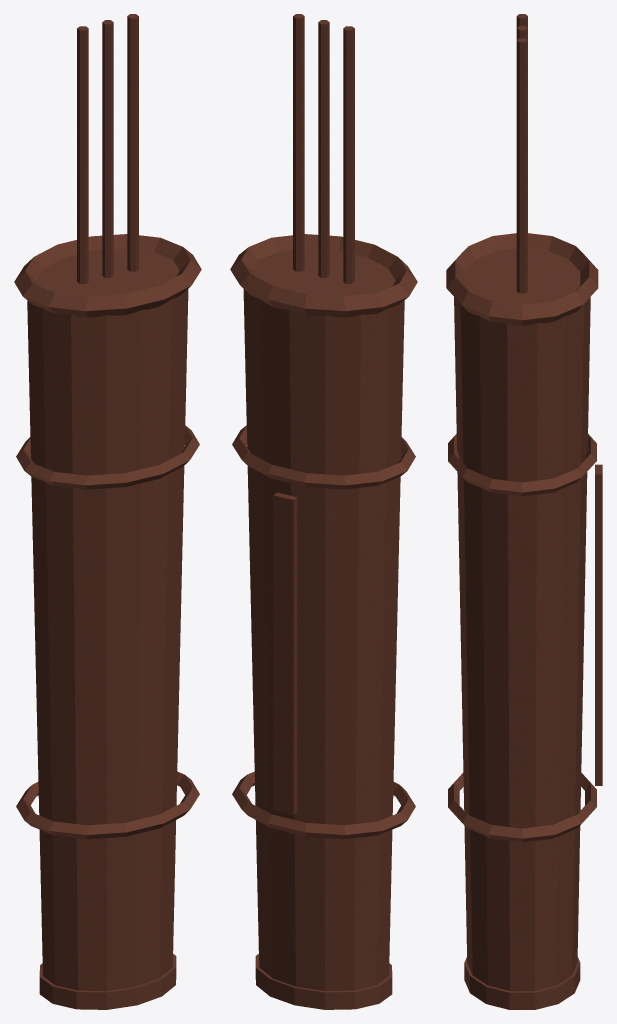
The model's file is quiver_back.glb.
The picture shows the model from 3 angles, left to right: view 1: azimuth 30°, elevation 25°; view 2: azimuth 150°, elevation 25°; view 3: azimuth 270°, elevation 25°; orthographic projection.
Parts seen in each view (by area): view 1: quiver_back; view 2: quiver_back; view 3: quiver_back.
Part boxes in pixels (left/top/right/bottom): quiver_back: left=14, top=14, right=201, bottom=1009; quiver_back: left=230, top=14, right=417, bottom=1009; quiver_back: left=446, top=14, right=602, bottom=1009.
Size of the model in its own units: 0.102 by 0.55 by 0.0818.
Materials: 1 (1 with a texture image).
